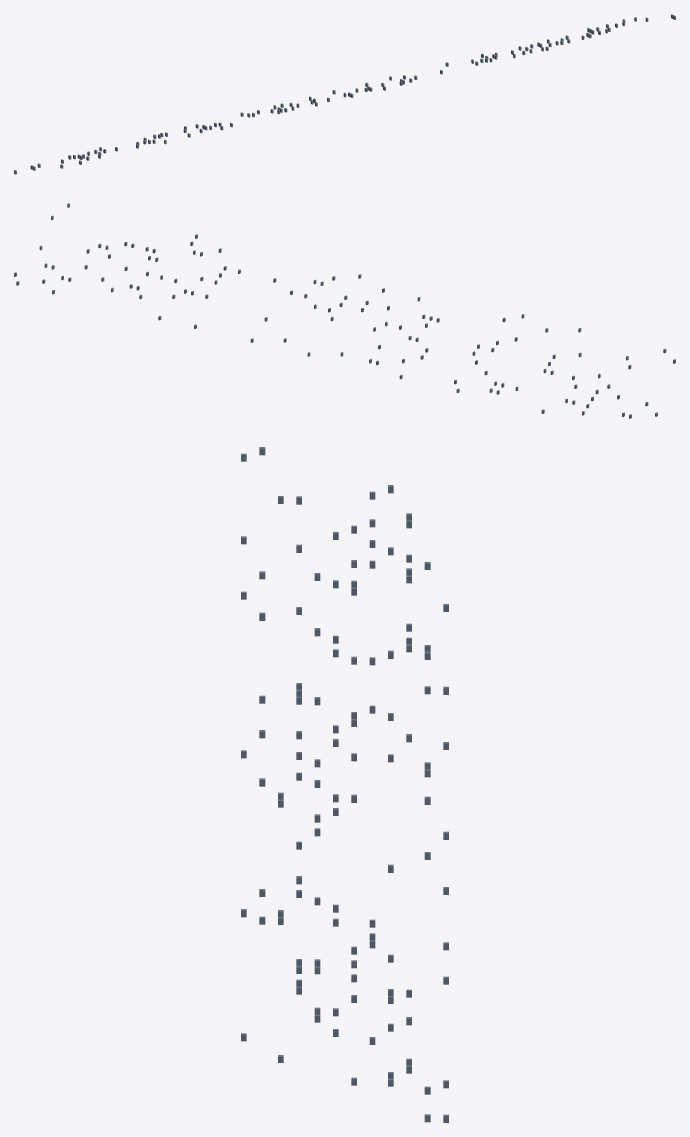
Rendered from SM_DK_05_Grandstand_steps_seating_and_crowd_shirt.fbx.
The picture shows the model from 3 angles, top to bottom: view 1: azimuth 30°, elevation 25°; view 2: azimuth 150°, elevation 25°; view 3: azimuth 270°, elevation 25°; orthographic projection. The views are drawn at different scales.
Parts seen in each view (by area): view 1: 05 Grandstand steps seating and crowd | shirt; view 2: 05 Grandstand steps seating and crowd | shirt; view 3: 05 Grandstand steps seating and crowd | shirt.
Boxes of the visible parts, x1,y1,x2,y2 form: 05 Grandstand steps seating and crowd | shirt: [14, 14, 675, 174]; 05 Grandstand steps seating and crowd | shirt: [14, 203, 675, 418]; 05 Grandstand steps seating and crowd | shirt: [241, 447, 448, 1122].
Bounding box in the file's own units: 7137 × 1018 × 476.
